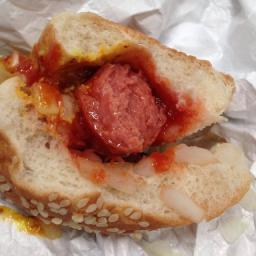hotdog: (75, 60, 172, 163)
